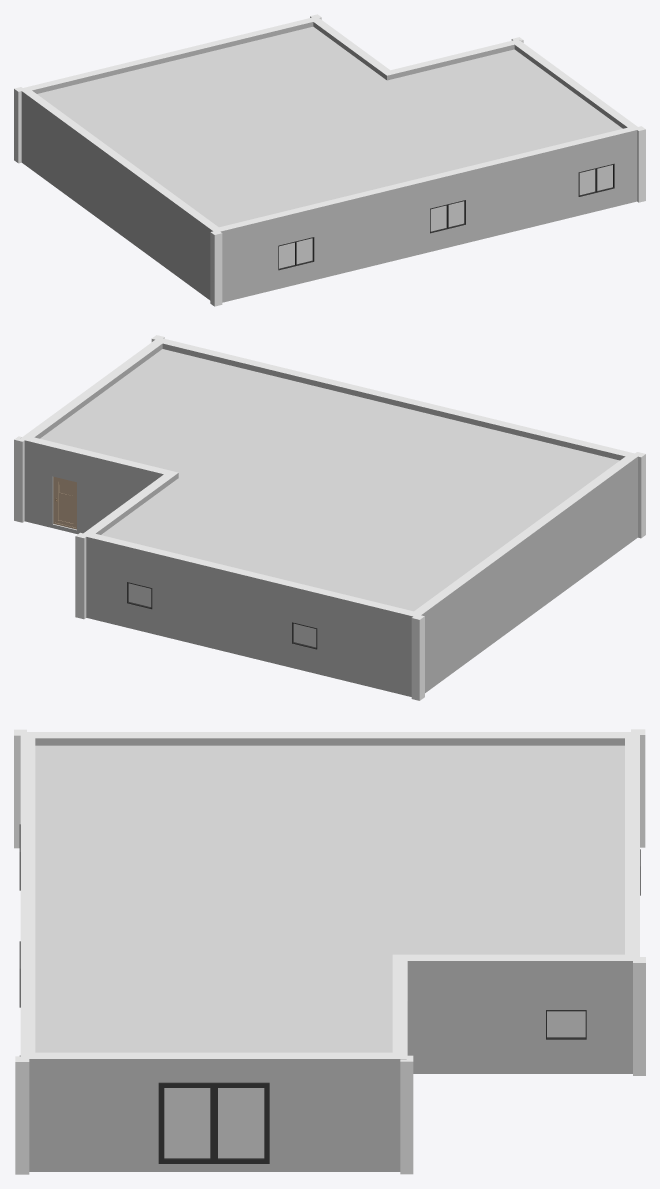
File: House_4.fbx
The picture shows the model from 3 angles, top to bottom: view 1: azimuth 30°, elevation 25°; view 2: azimuth 150°, elevation 25°; view 3: azimuth 270°, elevation 25°; orthographic projection. The views are drawn at different scales.
Visible parts, largest first — view 1: House_4_Body, House_4_Window.005, House_4_Window.004, House_4_Window.003; view 2: House_4_Body, Hoouse_4_Door.005; view 3: House_4_Body, House_4_Window.006, House_4_Window.
Boxes of the visible parts, x1,y1,x2,y2 form: House_4_Body: (14, 14, 645, 306); House_4_Window.005: (430, 201, 464, 231); House_4_Window.004: (279, 238, 312, 268); House_4_Window.003: (579, 165, 612, 194); House_4_Body: (14, 335, 645, 700); Hoouse_4_Door.005: (53, 476, 76, 529); House_4_Body: (14, 729, 645, 1174); House_4_Window.006: (164, 1088, 264, 1158); House_4_Window: (547, 1011, 585, 1037).
Bounding box in the file's own units: 2032 × 322 × 1632.
